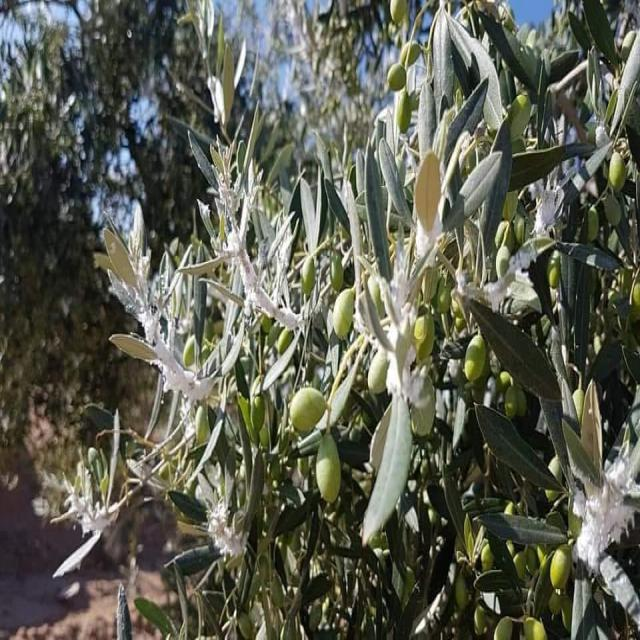Healthy: (315, 431, 341, 503), (289, 388, 327, 431), (465, 333, 486, 382), (550, 545, 571, 589)
Psyllid: (356, 257, 434, 419), (574, 457, 639, 625), (110, 334, 213, 398), (453, 245, 541, 314), (53, 468, 119, 548), (235, 245, 298, 328), (412, 198, 443, 276), (208, 510, 246, 556), (533, 184, 561, 233)
